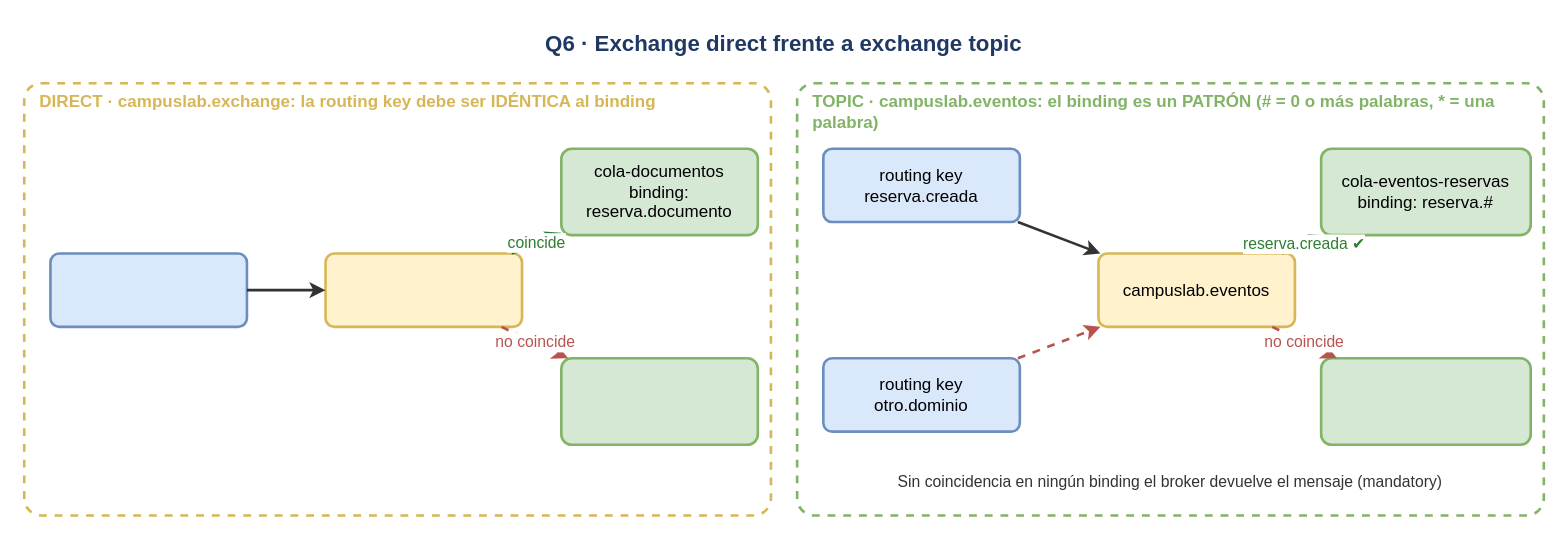
This 1567x538 diagram has some shape labels left out. The centre of each missing label's shape, as x and y in pixels:
"campuslab.exchange" belongs at pixel 423 290.
"cola-auditoria binding: reserva.auditoria" belongs at pixel 658 400.
"cola-eventos-catalogo binding: catalogo.#" belongs at pixel 1425 400.
"routing key reserva.documento" belongs at pixel 148 290.
